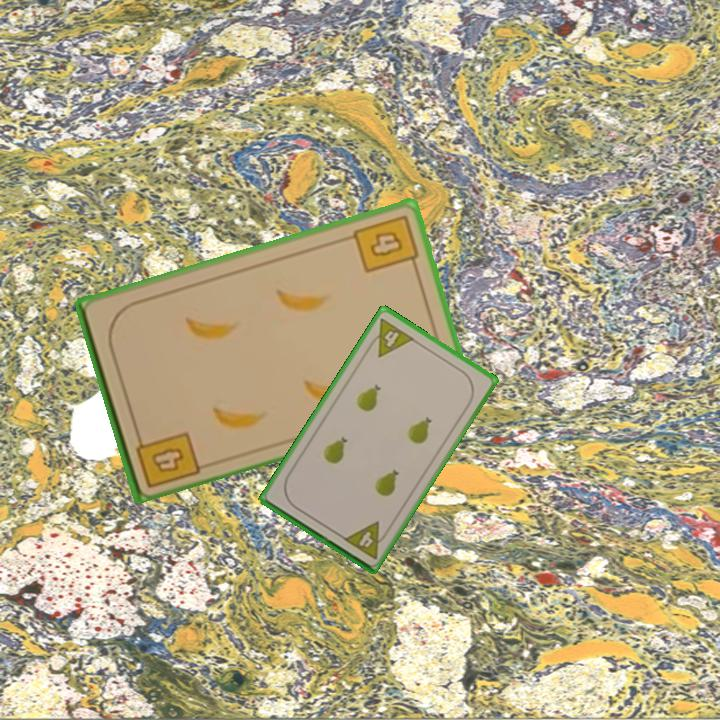4b: (349, 211, 421, 276), (132, 426, 202, 491)
4p: (363, 314, 417, 360), (340, 518, 392, 562)
